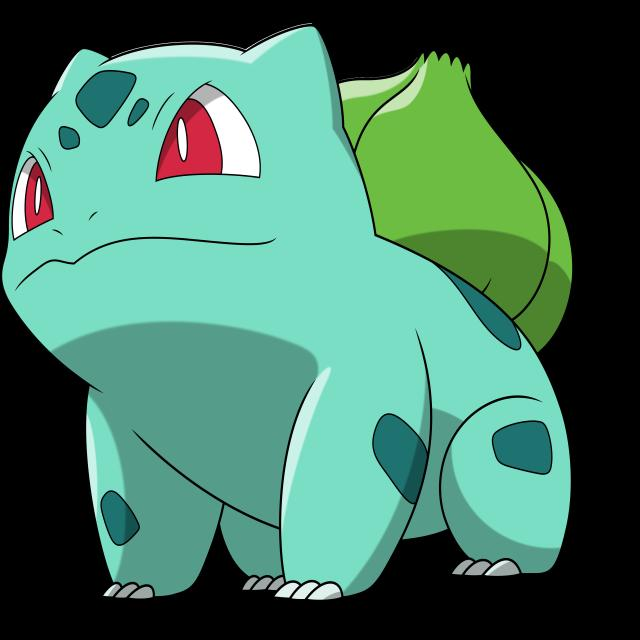Bulbasaur: (0, 27, 581, 601)
